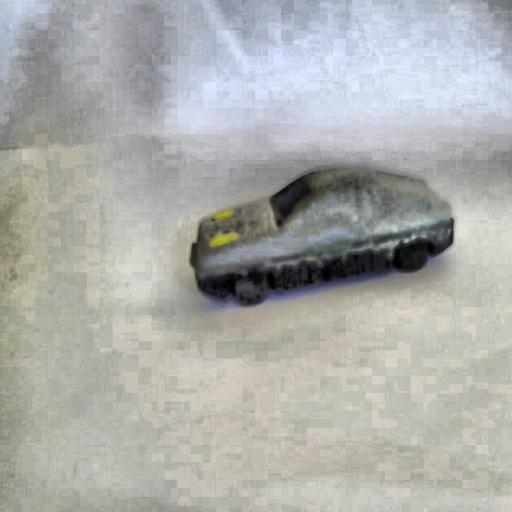normal_car: (184, 159, 458, 311)
